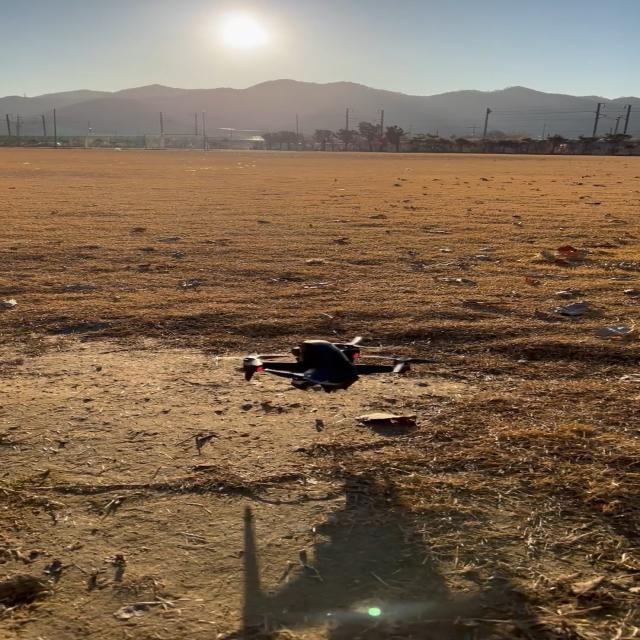Drone: (241, 334, 418, 387)
